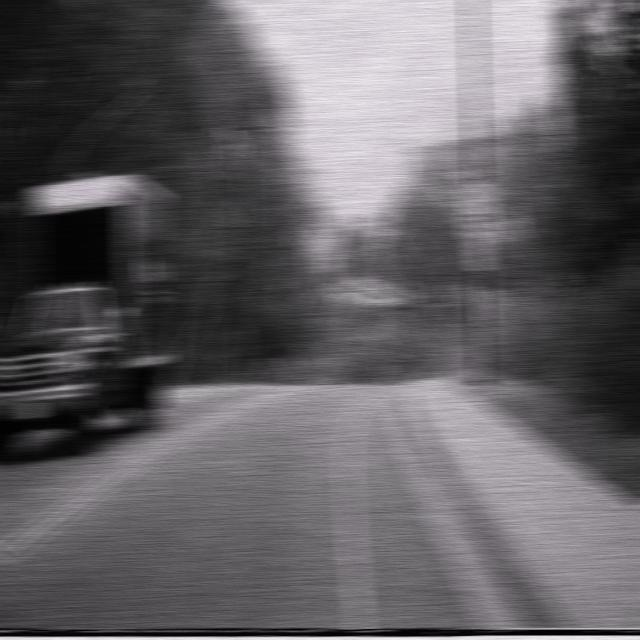speedLimit35: (462, 182, 494, 239)
